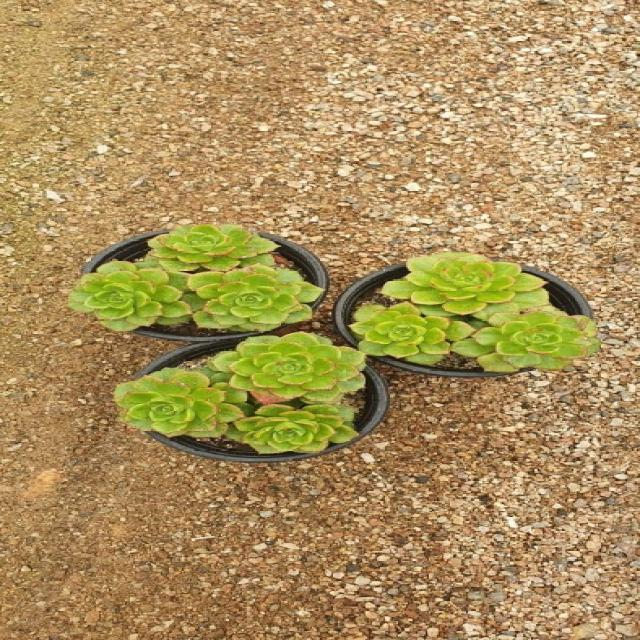Letizia: (209, 332, 364, 404), (383, 252, 549, 319), (114, 368, 253, 438), (454, 306, 599, 372), (69, 260, 203, 331), (187, 265, 322, 331), (348, 302, 475, 364), (227, 404, 359, 454)
